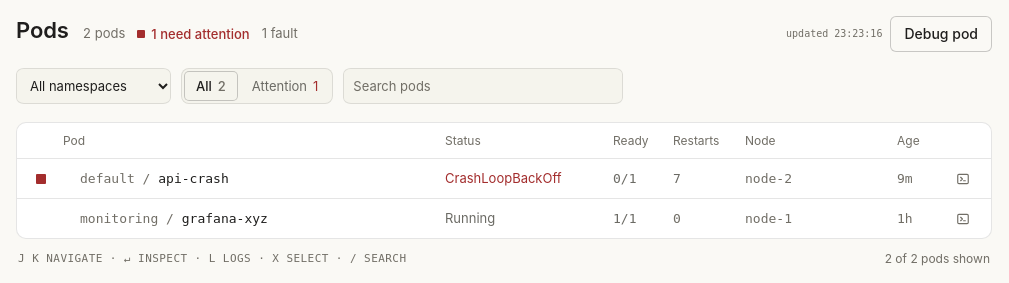
Scenario: PodsView › search filters by namespace
The width and height of the screenshot is (1009, 283).
Step 1. Type "monitoring" into the search field with placeholder "Search pods" → (483,86), box [343,66,623,106]
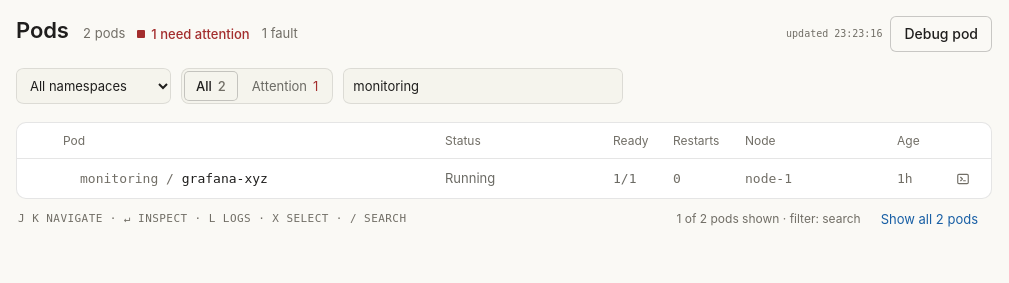
expect the text "grafana-xyz" is shown: met, box [182,170,268,186]
expect the button "api-crash" is gone: met
